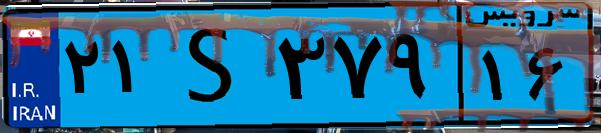1: (475, 38, 525, 113), (110, 28, 158, 98)
2: (57, 26, 110, 100)
3: (270, 28, 330, 110)
6: (525, 38, 570, 115)
7: (330, 28, 385, 110)
9: (385, 28, 445, 110)
S: (158, 12, 270, 120)
